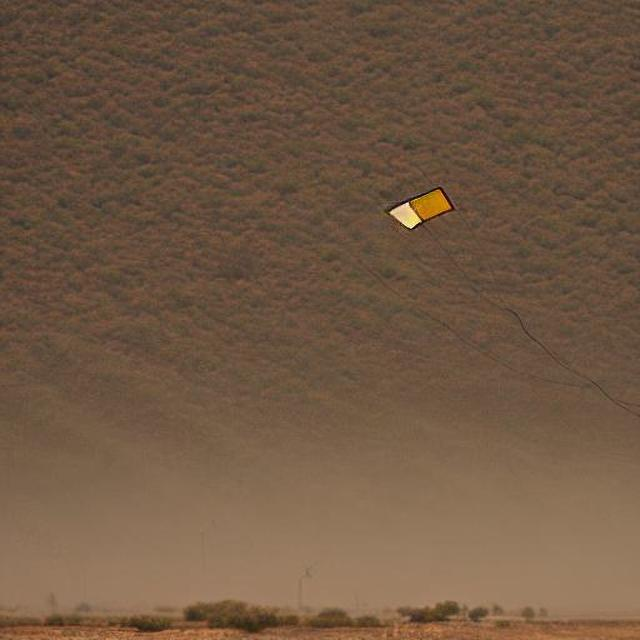floating object: (378, 184, 458, 233)
